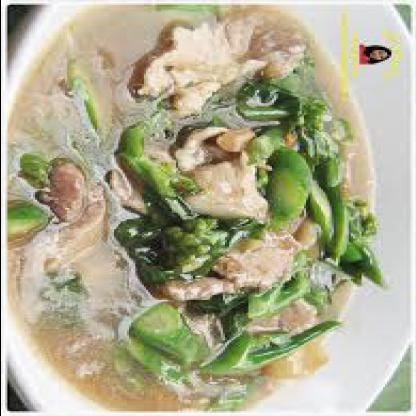Laadna: (2, 0, 380, 410)
